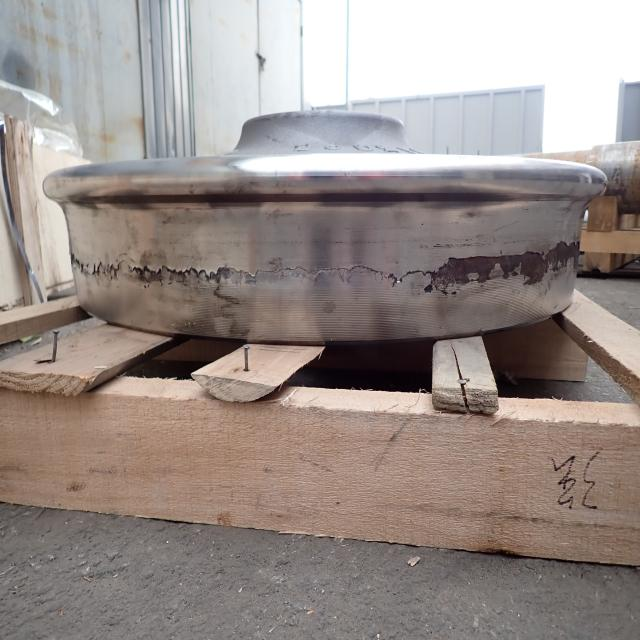Contact_Fatigue_Cracks: (258, 264, 382, 279), (215, 289, 250, 337), (167, 265, 212, 288), (94, 256, 130, 282), (386, 270, 428, 286), (73, 256, 92, 278)
Peeling: (429, 252, 546, 286), (546, 240, 579, 271), (216, 265, 255, 286), (136, 266, 164, 285)
